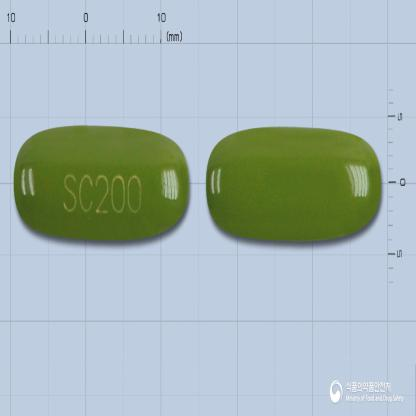pill: (13, 124, 188, 242), (206, 126, 382, 242)
